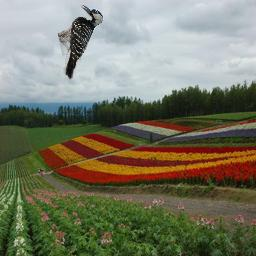Woodpecker: (58, 5, 104, 80)
